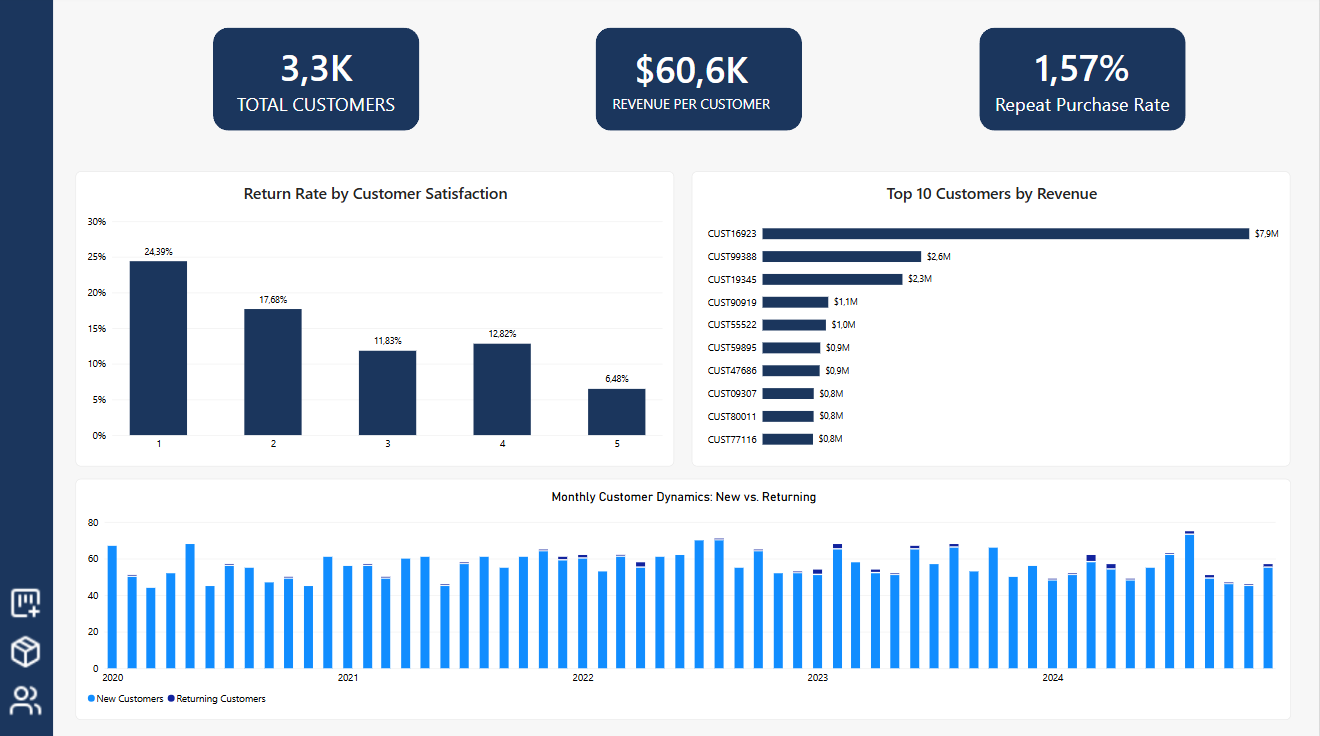

What the dashboard file says about the page in this screenshot:
{"tool":"powerbi","page":{"name":"Customer Detail","canvas":[1920,1080],"ordinal":2},"visuals":[{"type":"shape","box":[0,0,80,1080],"z":0},{"type":"cardVisual","fields":{"Data":["Measure Table (DAX).Average Revenue Per Customer"]},"box":[831.1,23.8,354,196],"z":0,"group":"g4"},{"type":"shape","box":[869.3,47.1,300,150],"z":0,"group":"g1"},{"type":"actionButton","box":[0,848,79.9,70.8],"z":0,"group":"g3"},{"type":"cardVisual","fields":{"Data":["Measure Table (DAX).Repeat Purchase Rate"]},"box":[1398.1,23.8,354,196],"z":1000,"group":"g4"},{"type":"shape","box":[313,47.1,300,150],"z":1000,"group":"g1"},{"type":"clusteredBarChart","title":"Top 10 Customers by Revenue","fields":{"Category":["Customers.customer_id"],"Y":["Measure Table (DAX).Total Revenue"]},"box":[1007.7,256,869.7,428.5],"z":1000},{"type":"actionButton","box":[0,918.8,79.9,70.8],"z":1000,"group":"g3"},{"type":"cardVisual","fields":{"Data":["Measure Table (DAX).Total Customers"]},"box":[285.7,23.8,354,196],"z":2000,"group":"g4"},{"type":"shape","box":[1425.6,47.1,300,150],"z":2000,"group":"g1"},{"type":"columnChart","title":"Return Rate by Customer Satisfaction","fields":{"Category":["Orders.customer_satisfaction"],"Y":["Measure Table (DAX).Return Rate"]},"box":[112.6,256,869.7,428.5],"z":2000},{"type":"actionButton","box":[0,989.6,79.9,70.8],"z":2000,"group":"g3"},{"type":"columnChart","title":"Monthly Customer Dynamics: New vs. Returning","fields":{"Category":["Calendar.Start of Month"],"Y":["Measure Table (DAX).New Customers","Measure Table (DAX).Returning Customers"]},"box":[112.5,703.3,1765.9,350.6],"z":3000},{"type":"group","id":"g1","title":"KPIs Bgc","box":[313,47.1,1412.6,150],"z":5000,"group":"g2"},{"type":"group","id":"g2","title":"KPIs","box":[285.7,23.8,1466.4,196],"z":5001},{"type":"group","id":"g3","title":"Nav Buttons","box":[0,848,79.9,212.4],"z":5002},{"type":"group","id":"g4","title":"KPIs Value","box":[285.7,23.8,1466.4,196],"z":5500,"group":"g2"}]}

Visuals, with their boxes on the page's 1920x1080 design canvas (x1, y1, x2, y2). These are canvas units, not pixel positions in the 1320x736 screenshot, which may show the page scaled, cropped or inside an application window:
shape: bbox=[0, 0, 80, 1080]
cardVisual - Measure Table (DAX).Average Revenue Per Customer: bbox=[831, 24, 1185, 220]
shape: bbox=[869, 47, 1169, 197]
actionButton: bbox=[0, 848, 80, 919]
cardVisual - Measure Table (DAX).Repeat Purchase Rate: bbox=[1398, 24, 1752, 220]
shape: bbox=[313, 47, 613, 197]
"Top 10 Customers by Revenue" clusteredBarChart: bbox=[1008, 256, 1877, 684]
actionButton: bbox=[0, 919, 80, 990]
cardVisual - Measure Table (DAX).Total Customers: bbox=[286, 24, 640, 220]
shape: bbox=[1426, 47, 1726, 197]
"Return Rate by Customer Satisfaction" columnChart: bbox=[113, 256, 982, 684]
actionButton: bbox=[0, 990, 80, 1060]
"Monthly Customer Dynamics: New vs. Returning" columnChart: bbox=[112, 703, 1878, 1054]
"KPIs Bgc" group: bbox=[313, 47, 1726, 197]
"KPIs" group: bbox=[286, 24, 1752, 220]
"Nav Buttons" group: bbox=[0, 848, 80, 1060]
"KPIs Value" group: bbox=[286, 24, 1752, 220]
